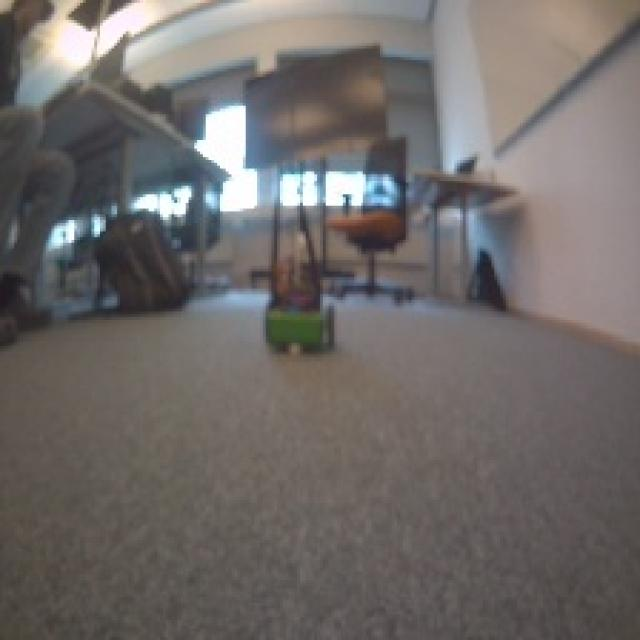robot: (257, 279, 337, 357)
